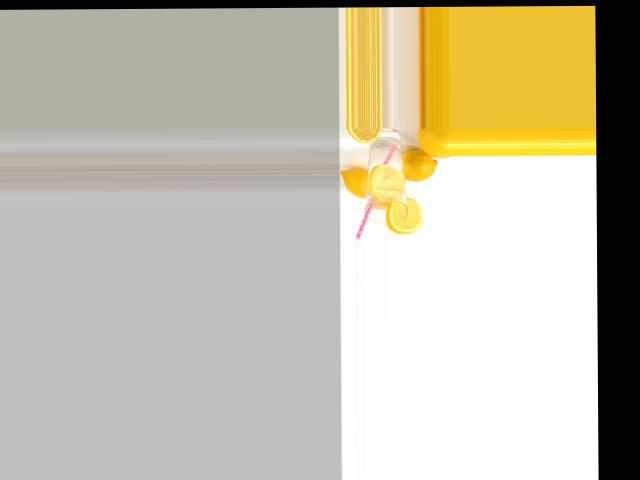lemon: (342, 163, 376, 198)
